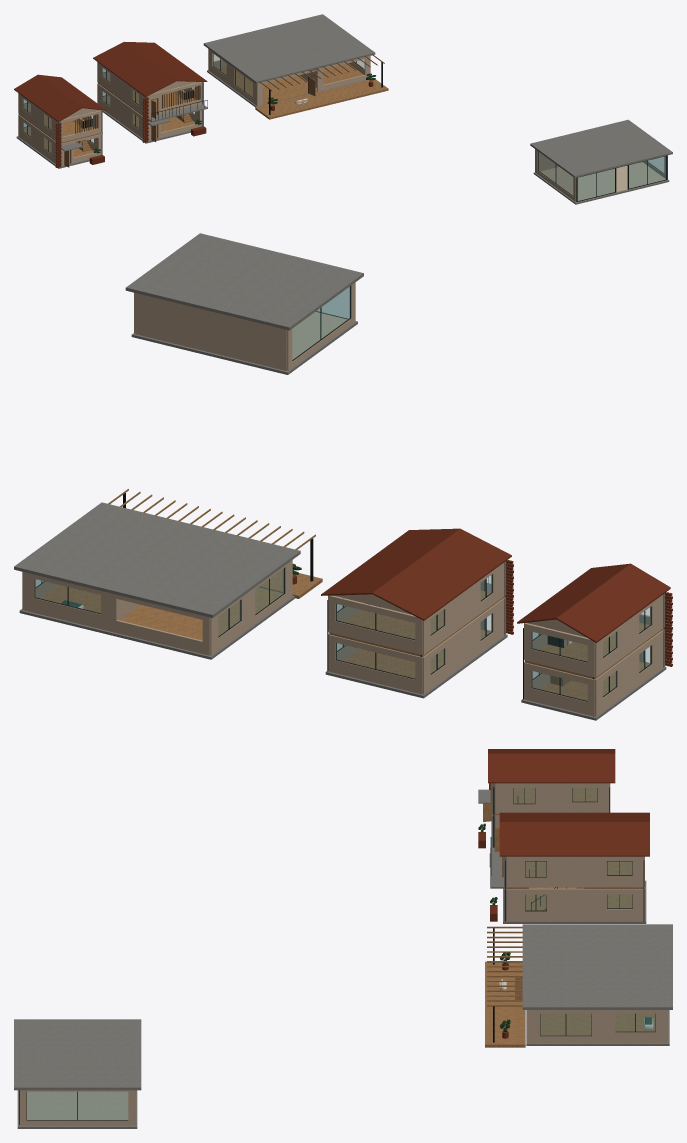
File: district.glb
3 renders of one model, top to bottom at view 1: azimuth 30°, elevation 25°; view 2: azimuth 150°, elevation 25°; view 3: azimuth 270°, elevation 25°, orthographic. The views are drawn at different scales.
Parts seen in each view (by area): view 1: Roof (×2), Floor (×2), Side (×3), Pitched_Roof (×2), Front (×3), Pitched_Roof.001 (×2), Garden_Deck, Front_Left_glass, Front_Right_glass, Upper_Floor_Main (×2), Side_Glass_glass, Foundation (+2 smaller); view 2: Roof (×2), Rear (×3), Side (×3), Pitched_Roof (×2), Rear_0_0, Pitched_Roof.001 (×2), Floor (×2), Foundation (×3), Upper_Floor_Main (×2), Rear_Window_L0_glass (×2), Rear_Window_L1_glass (×2), Ground_Floor (×2) (+4 smaller); view 3: Roof (×2), Pitched_Roof.001 (×2), Floor (×2), Side_L1_2_0.001 (×2), Side_Glass_glass.001, Garden_Deck, Pitched_Roof (×2), Side_L0_2_0.001, Upper_Floor_Main (×2), Side_L1_0_0.001 (×2), Side_Glazing_glass.001, Side_2_0.001 (+5 smaller).
Boxes of the visible parts, x1=… form: Roof (×2): x1=203, y1=14, x2=672, y2=177; Floor (×2): x1=218, y1=63, x2=666, y2=202; Side (×3): x1=18, y1=49, x2=257, y2=163; Pitched_Roof (×2): x1=14, y1=42, x2=176, y2=122; Front (×3): x1=60, y1=56, x2=370, y2=165; Pitched_Roof.001 (×2): x1=38, y1=41, x2=207, y2=110; Garden_Deck: x1=255, y1=79, x2=388, y2=119; Front_Left_glass: x1=578, y1=169, x2=614, y2=200; Front_Right_glass: x1=629, y1=156, x2=665, y2=188; Upper_Floor_Main (×2): x1=18, y1=79, x2=186, y2=143; Side_Glass_glass: x1=538, y1=152, x2=572, y2=195; Foundation: x1=533, y1=172, x2=669, y2=204; Roof (×2): x1=14, y1=233, x2=363, y2=617; Rear (×3): x1=22, y1=572, x2=594, y2=716; Side (×3): x1=210, y1=560, x2=662, y2=716; Pitched_Roof (×2): x1=372, y1=528, x2=670, y2=642; Rear_0_0: x1=134, y1=293, x2=286, y2=370; Pitched_Roof.001 (×2): x1=321, y1=528, x2=630, y2=623; Floor (×2): x1=40, y1=312, x2=347, y2=655; Foundation (×3): x1=19, y1=321, x2=507, y2=698; Upper_Floor_Main (×2): x1=346, y1=590, x2=662, y2=679; Rear_Window_L0_glass (×2): x1=336, y1=643, x2=587, y2=700; Rear_Window_L1_glass (×2): x1=336, y1=604, x2=587, y2=661; Ground_Floor (×2): x1=344, y1=630, x2=649, y2=716; Roof (×2): x1=14, y1=924, x2=672, y2=1090; Pitched_Roof.001 (×2): x1=488, y1=753, x2=649, y2=856; Floor (×2): x1=20, y1=1013, x2=655, y2=1125; Side_L1_2_0.001 (×2): x1=535, y1=783, x2=606, y2=887; Side_Glass_glass.001: x1=27, y1=1092, x2=127, y2=1119; Garden_Deck: x1=485, y1=961, x2=525, y2=1047; Pitched_Roof (×2): x1=488, y1=749, x2=649, y2=821; Side_L0_2_0.001: x1=547, y1=888, x2=606, y2=920; Upper_Floor_Main (×2): x1=513, y1=788, x2=632, y2=876; Side_L1_0_0.001 (×2): x1=495, y1=783, x2=524, y2=887; Side_Glazing_glass.001: x1=540, y1=1014, x2=591, y2=1035; Side_2_0.001: x1=592, y1=1010, x2=615, y2=1042.
Bounding box in the file's own units: 64.15 × 7.77 × 57.
15 materials, 7 textured.
